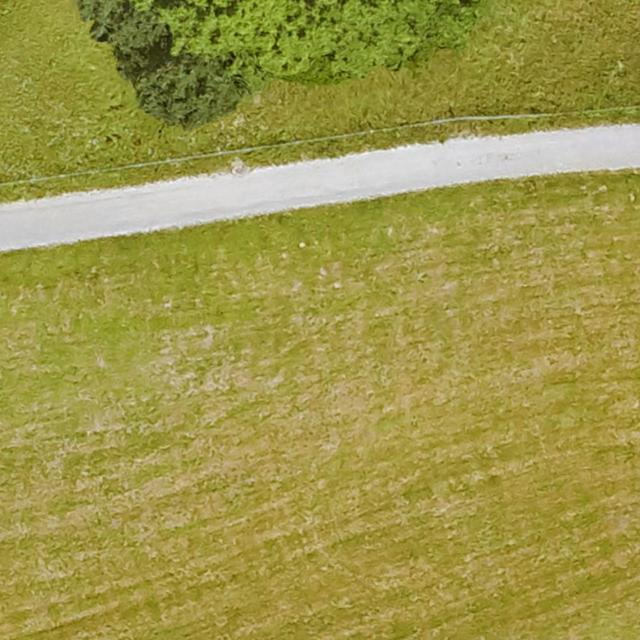tree: (172, 0, 431, 66), (146, 52, 247, 125), (86, 0, 171, 63)
